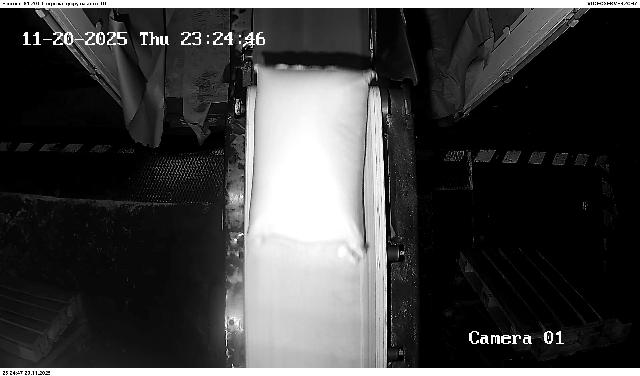bag: (248, 64, 378, 260)
